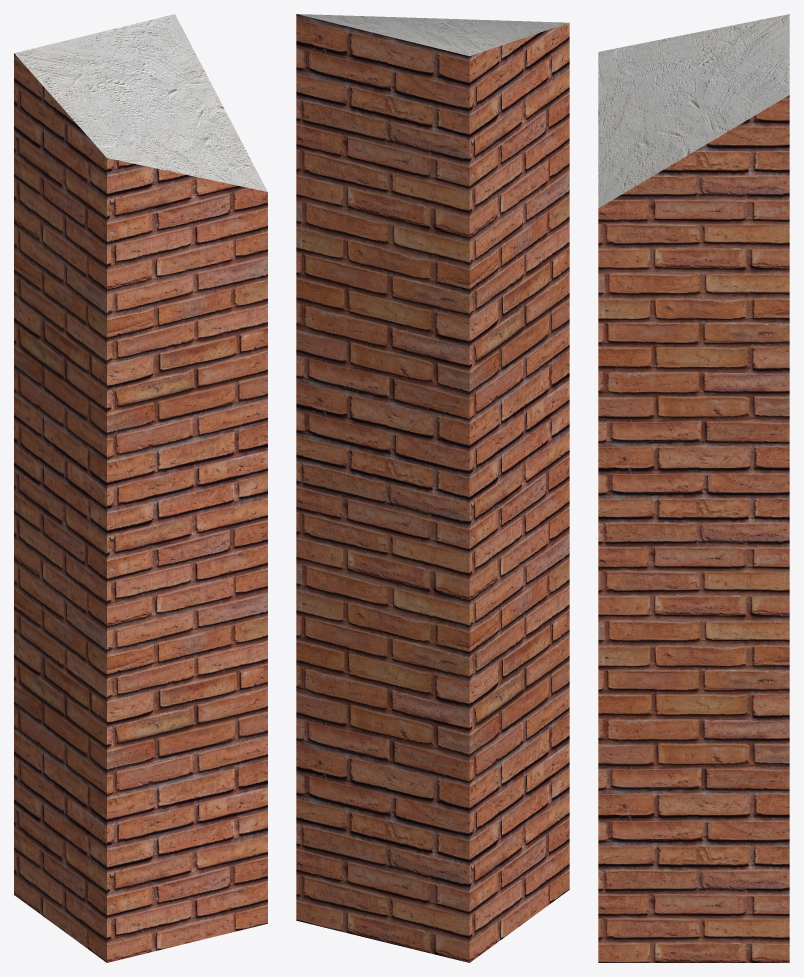
Rendered from House6RuinsPillar.fbx.
The picture shows the model from 3 angles, left to right: view 1: azimuth 30°, elevation 25°; view 2: azimuth 150°, elevation 25°; view 3: azimuth 270°, elevation 25°; orthographic projection. The views are drawn at different scales.
Visible parts, largest first — view 1: House6RuinsPillar, Top; view 2: House6RuinsPillar, Top; view 3: House6RuinsPillar, Top.
Part boxes in pixels (x1,y1,x2,y2): House6RuinsPillar: [14, 53, 267, 962]; Top: [14, 14, 267, 191]; House6RuinsPillar: [296, 14, 569, 962]; Top: [297, 14, 568, 56]; House6RuinsPillar: [598, 95, 789, 962]; Top: [598, 14, 789, 207].
Size of the model in its own units: 0.5 by 2.5 by 0.5.
Materials: 2 (2 with a texture image).
